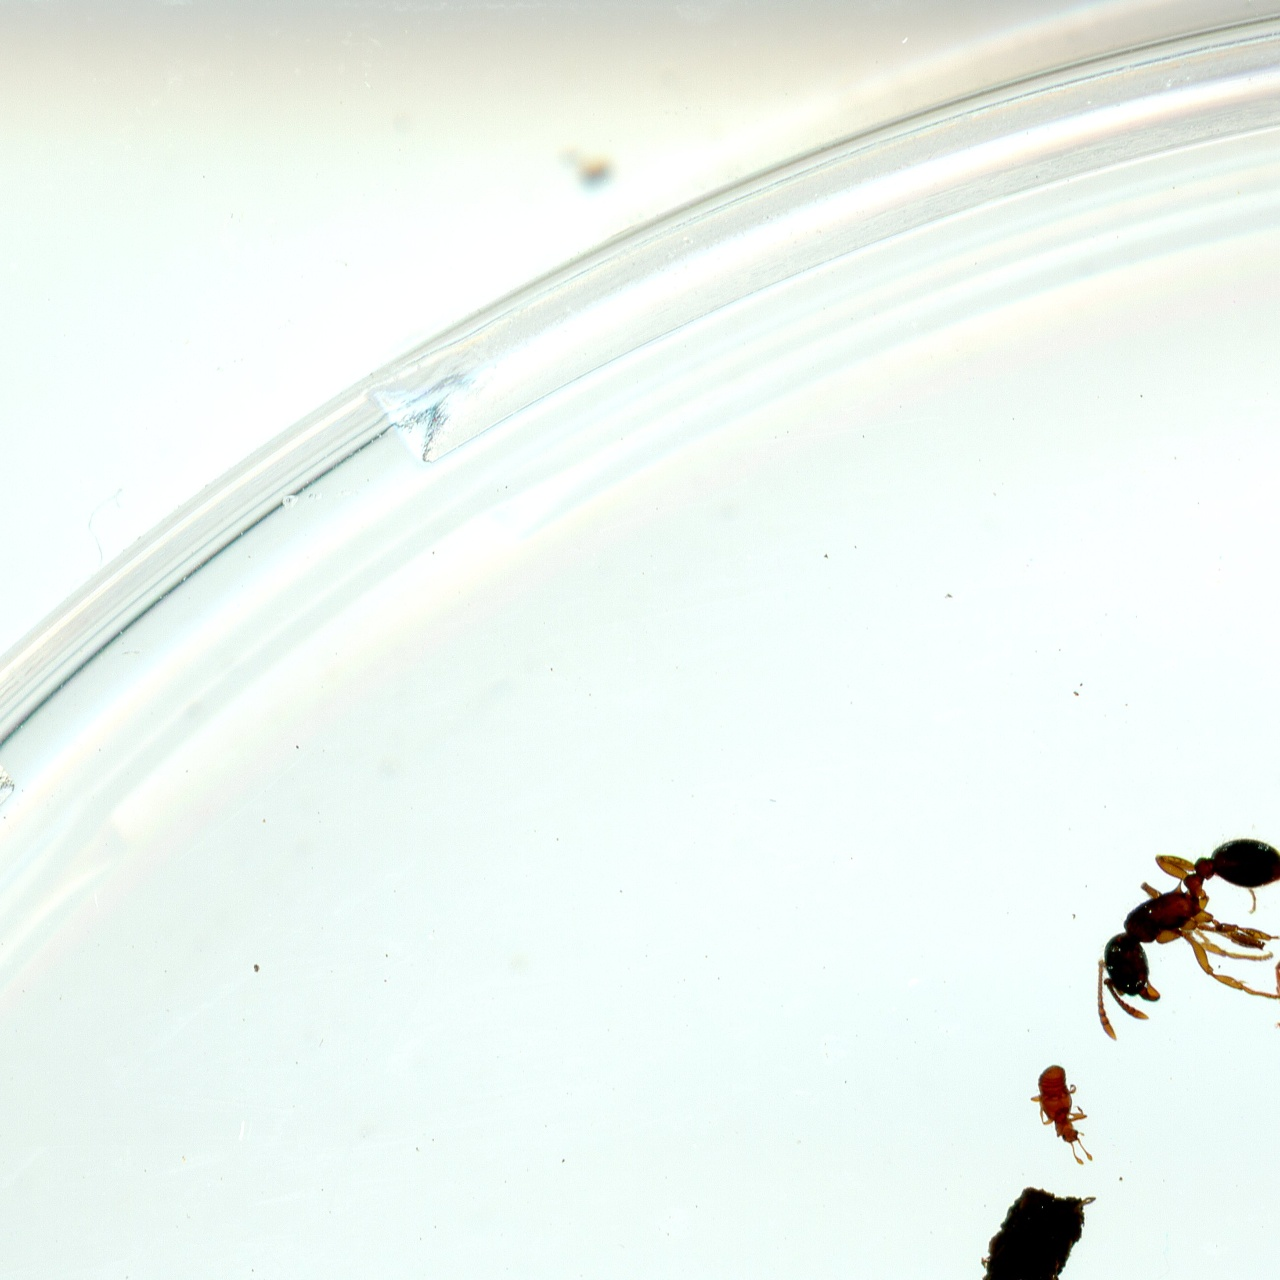arthropod: (1093, 833, 1280, 1041), (1021, 1057, 1100, 1176), (1259, 920, 1280, 1099)
